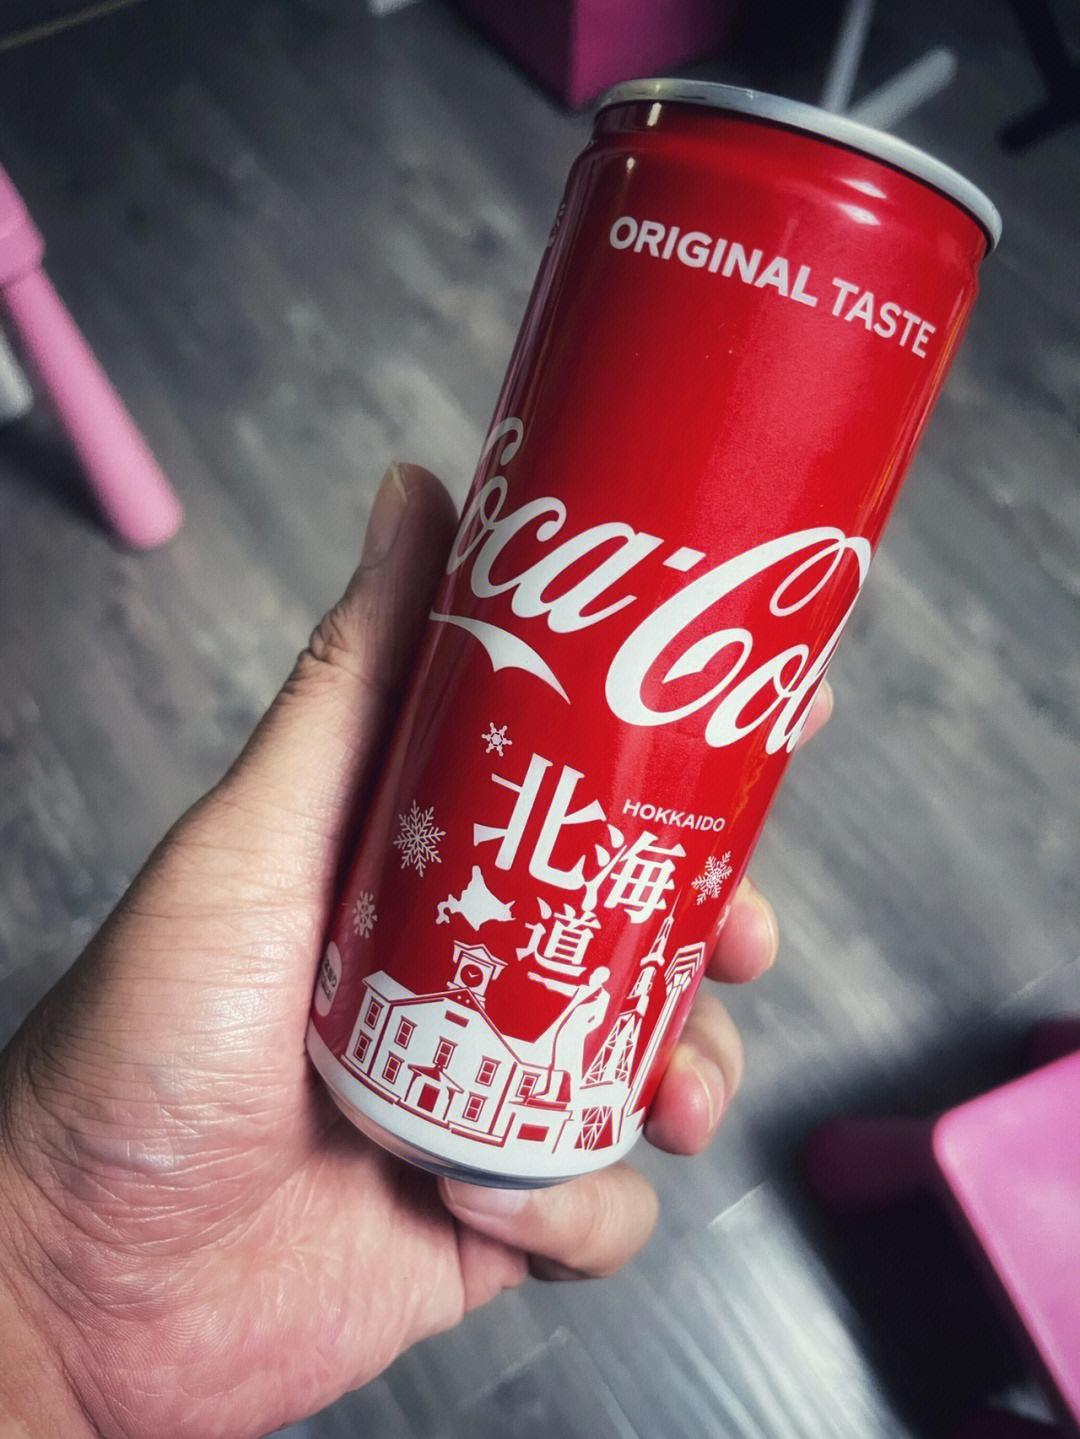metal: (310, 78, 999, 1185)
